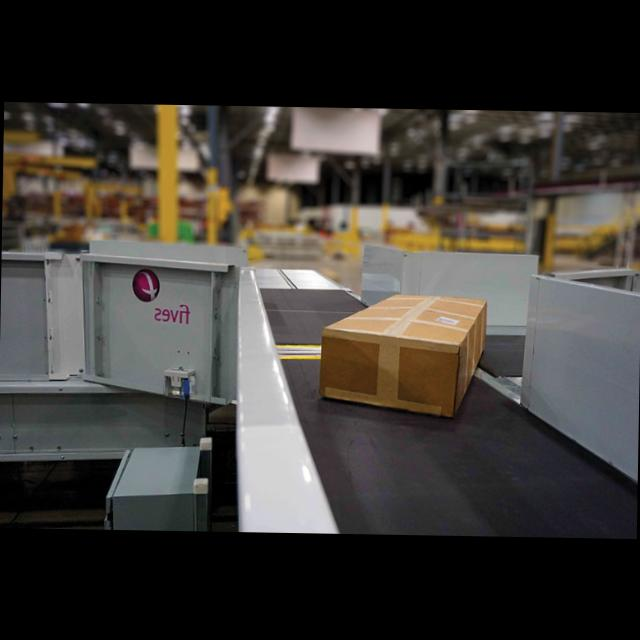box: (314, 294, 486, 414)
